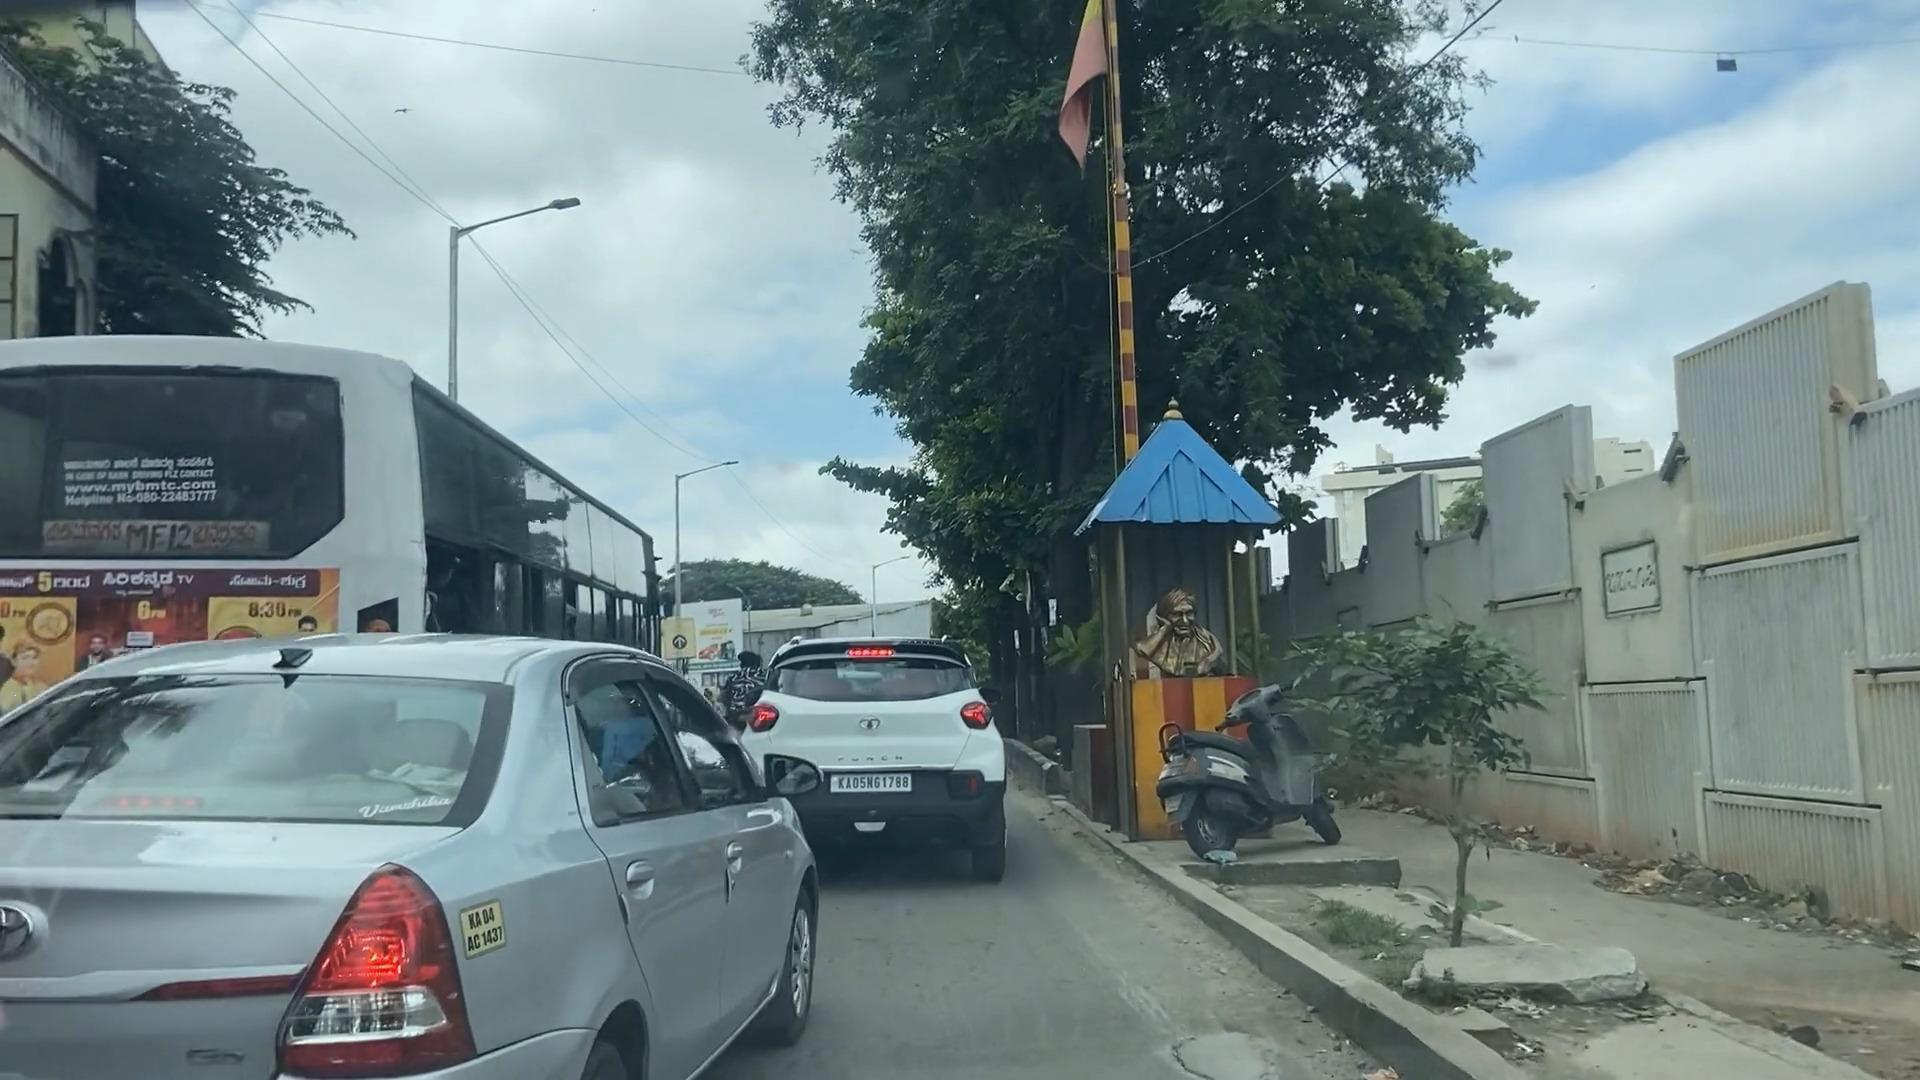LMV: (727, 644, 986, 836)
